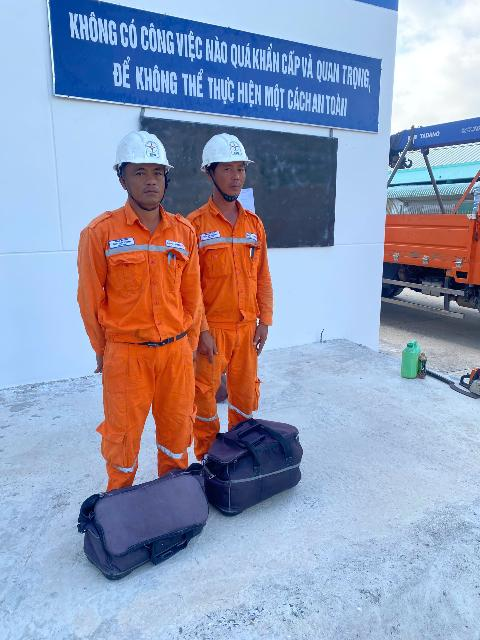helmet: (196, 126, 260, 176), (111, 132, 176, 179)
